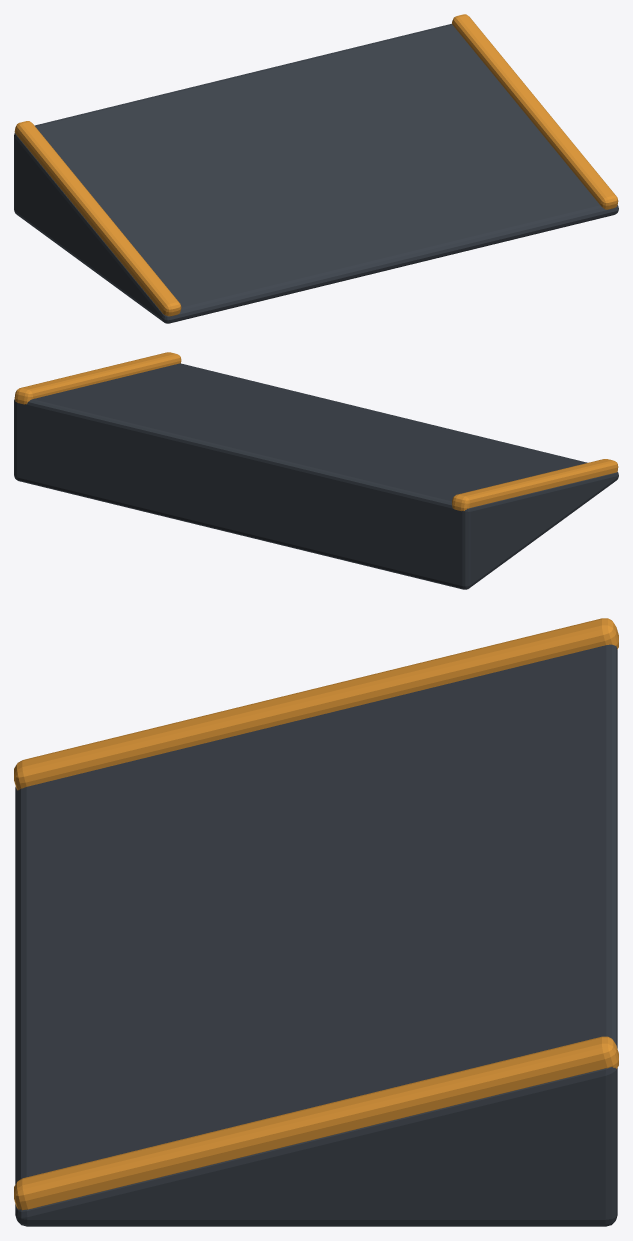
The model's file is SM_RobotCenter_AccessRamp.fbx.
The picture shows the model from 3 angles, top to bottom: view 1: azimuth 30°, elevation 25°; view 2: azimuth 150°, elevation 25°; view 3: azimuth 270°, elevation 25°; orthographic projection. The views are drawn at different scales.
Visible parts, largest first — view 1: SM_RobotCenter_AccessRamp.001; view 2: SM_RobotCenter_AccessRamp.001; view 3: SM_RobotCenter_AccessRamp.001.
Boxes of the visible parts, x1,y1,x2,y2 form: SM_RobotCenter_AccessRamp.001: (14, 14, 618, 323); SM_RobotCenter_AccessRamp.001: (14, 352, 618, 589); SM_RobotCenter_AccessRamp.001: (14, 618, 618, 1226).
Size of the model in its own units: 253 by 432 by 83.46.
